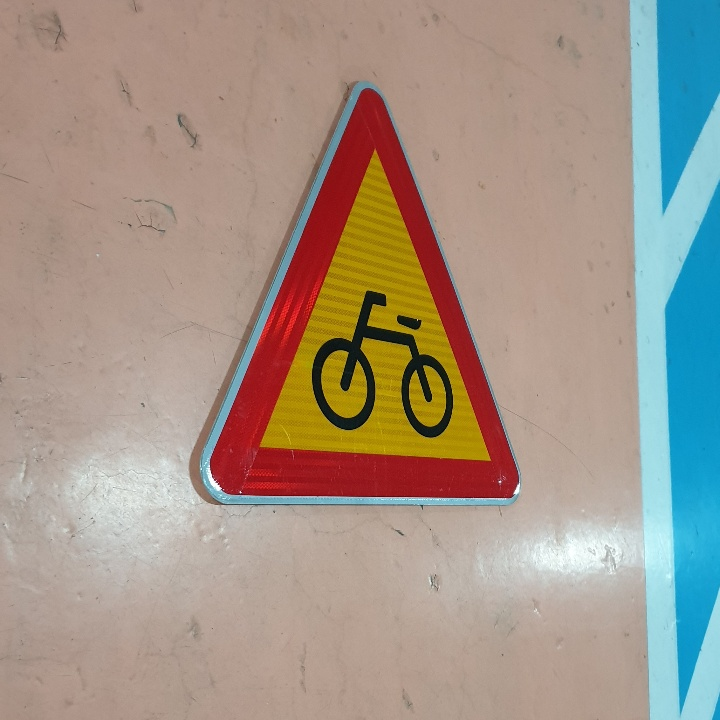bicycle: (201, 80, 529, 506)
